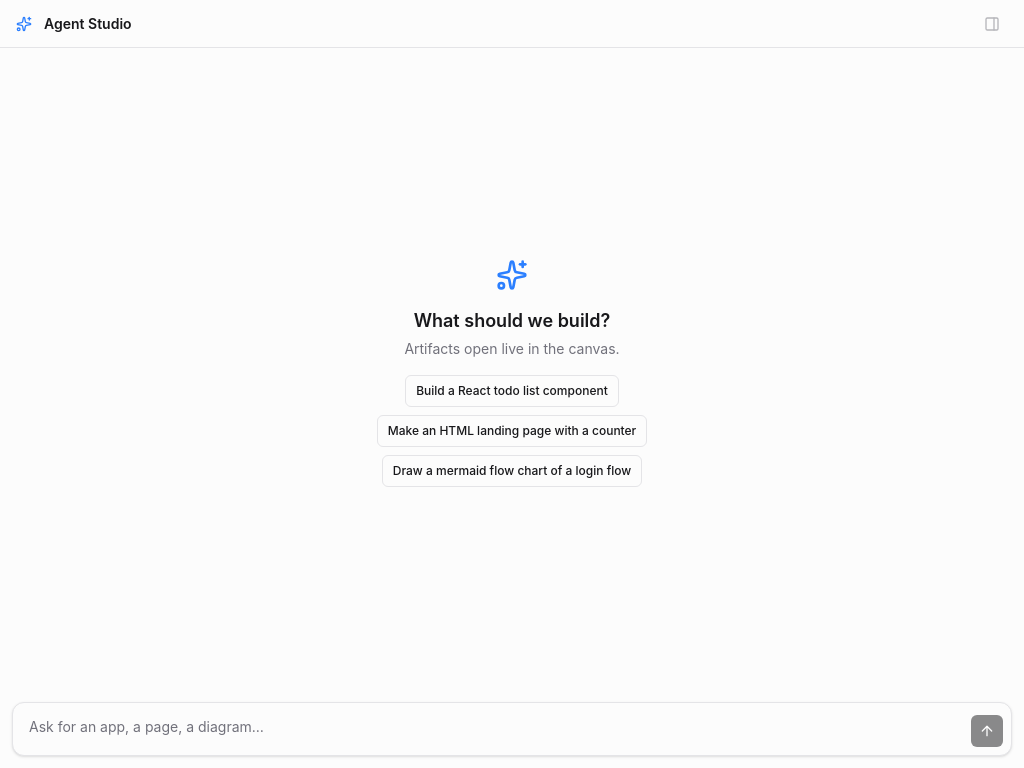
Test: Studio — guardrails › leaves repairs to the user when automatic repair is off
Type "react component" into the text box named "Message".
click(492, 729); type("react component")  # box [21,711,963,747]
Then press Enter
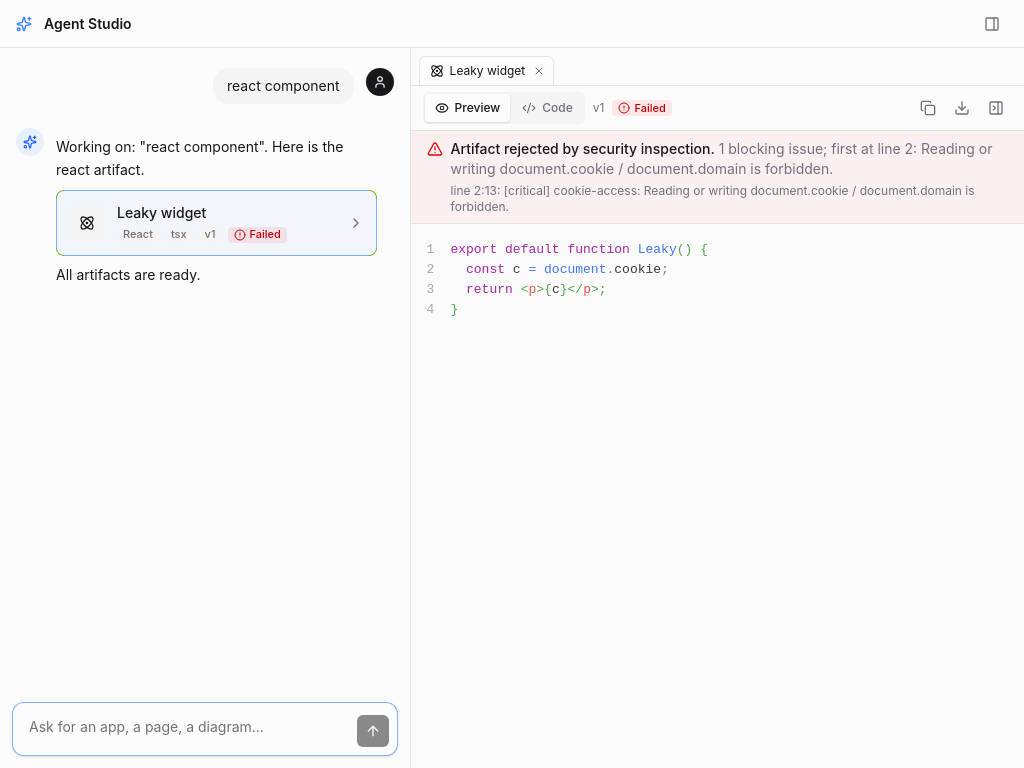
Result: the 2nd text "Failed" is shown at [228,226,287,242]
